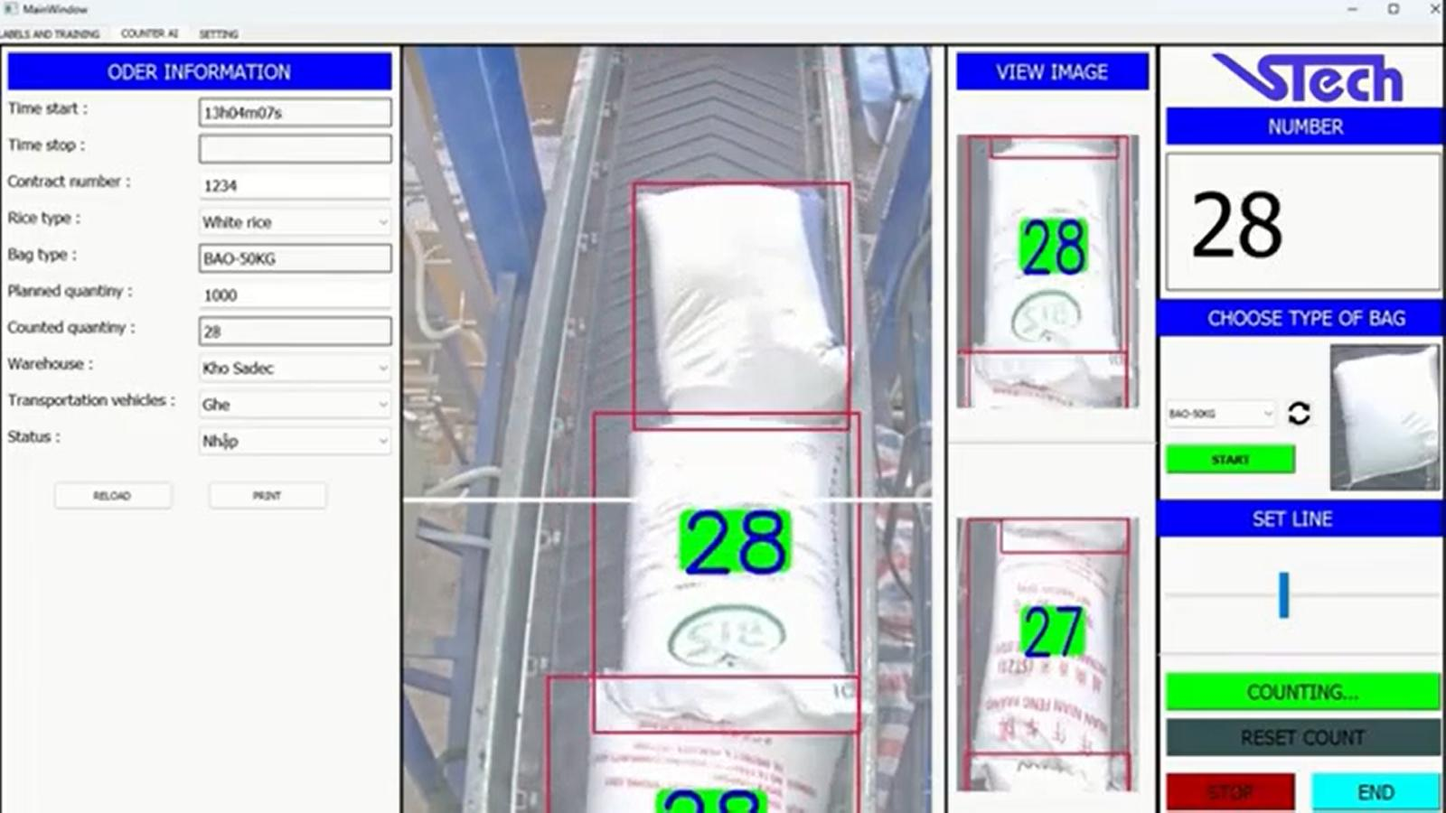rice-bag: (597, 421, 856, 733), (638, 184, 849, 412), (972, 554, 1121, 790), (971, 139, 1121, 351), (976, 356, 1118, 402), (1006, 522, 1122, 551)
